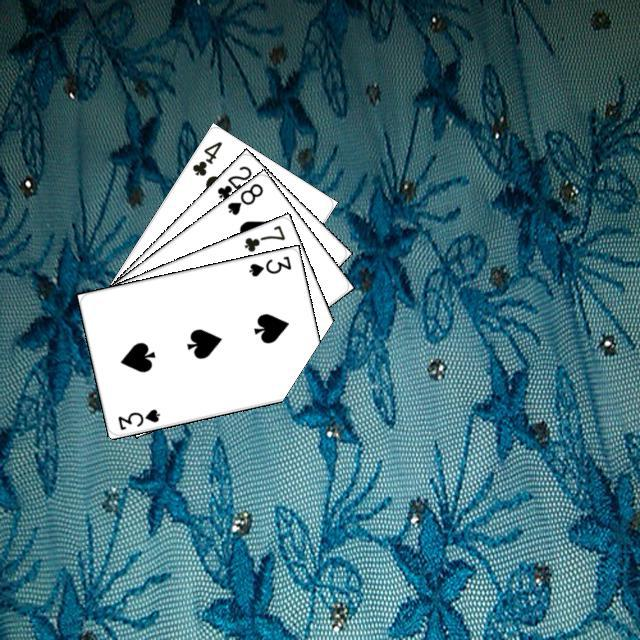2c: (212, 161, 254, 202)
3s: (113, 404, 162, 432), (244, 251, 293, 278)
4c: (187, 136, 224, 178)
7c: (239, 220, 287, 254)
8s: (222, 178, 265, 217)
